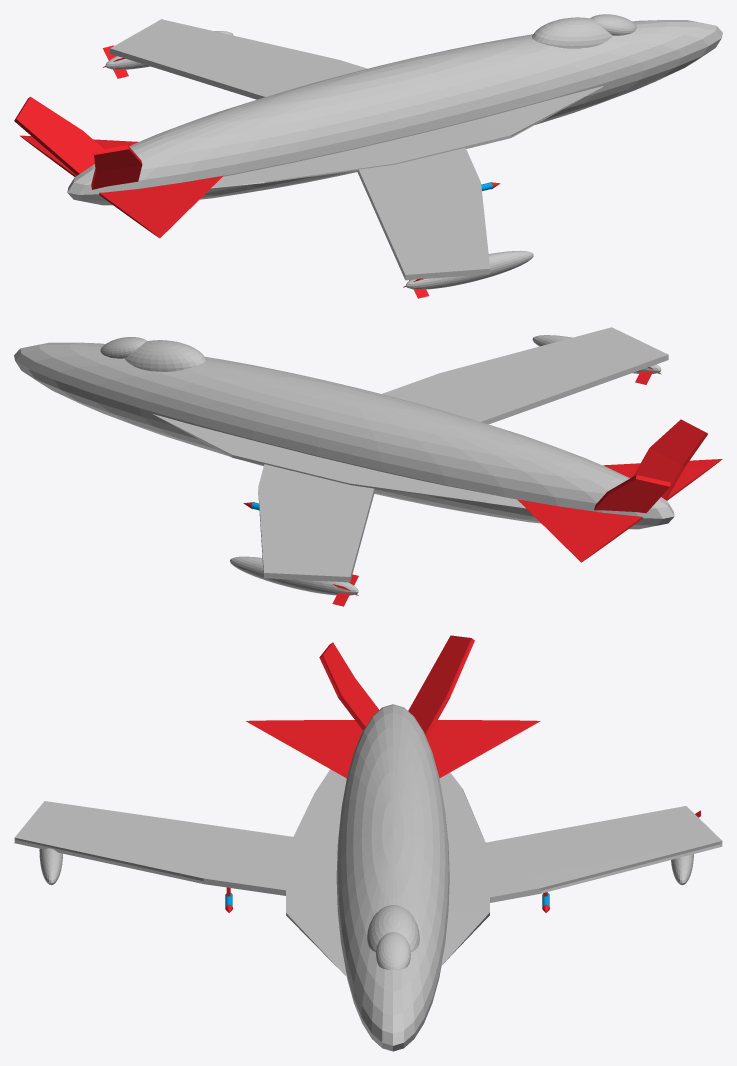
The model's file is player.obj.
The picture shows the model from 3 angles, top to bottom: view 1: azimuth 30°, elevation 25°; view 2: azimuth 150°, elevation 25°; view 3: azimuth 270°, elevation 25°; orthographic projection. The views are drawn at different scales.
Visible parts, largest first — view 1: Player_球_player, Player_球_tip, Player_球_boarding; view 2: Player_球_player, Player_球_tip, Player_球_boarding; view 3: Player_球_player, Player_球_tip, Player_球_boarding.
Boxes of the visible parts, <box> form: Player_球_player: <box>67,19,722,298</box>; Player_球_tip: <box>14,45,500,298</box>; Player_球_boarding: <box>532,14,636,48</box>; Player_球_player: <box>14,327,674,595</box>; Player_球_tip: <box>243,367,722,606</box>; Player_球_boarding: <box>100,337,205,371</box>; Player_球_player: <box>14,704,722,1051</box>; Player_球_tip: <box>225,635,700,912</box>; Player_球_boarding: <box>367,905,419,970</box>.
Bounding box in the file's own units: 14.58 × 2.3 × 12.53.
